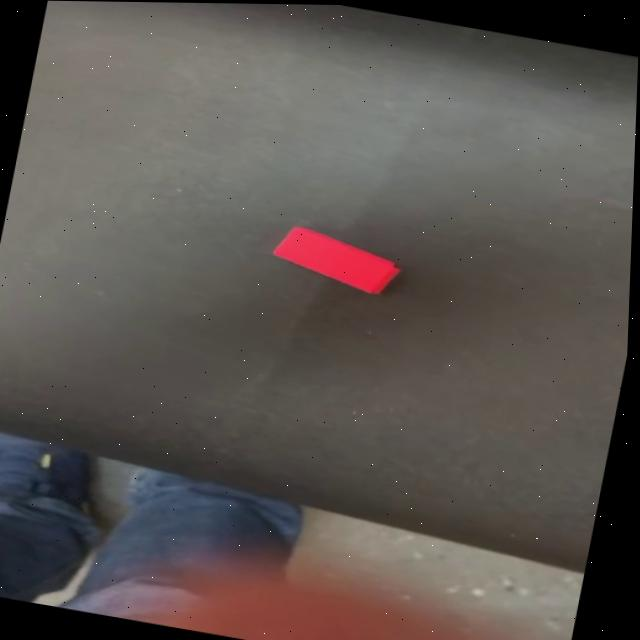red block: (264, 221, 405, 298)
